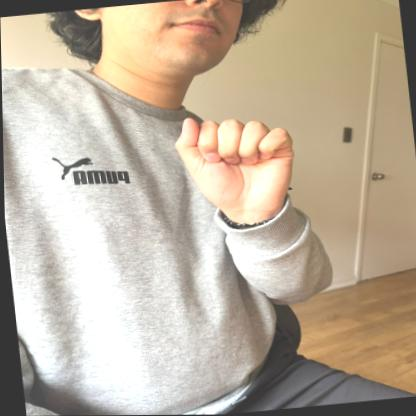A: (167, 103, 301, 221)
